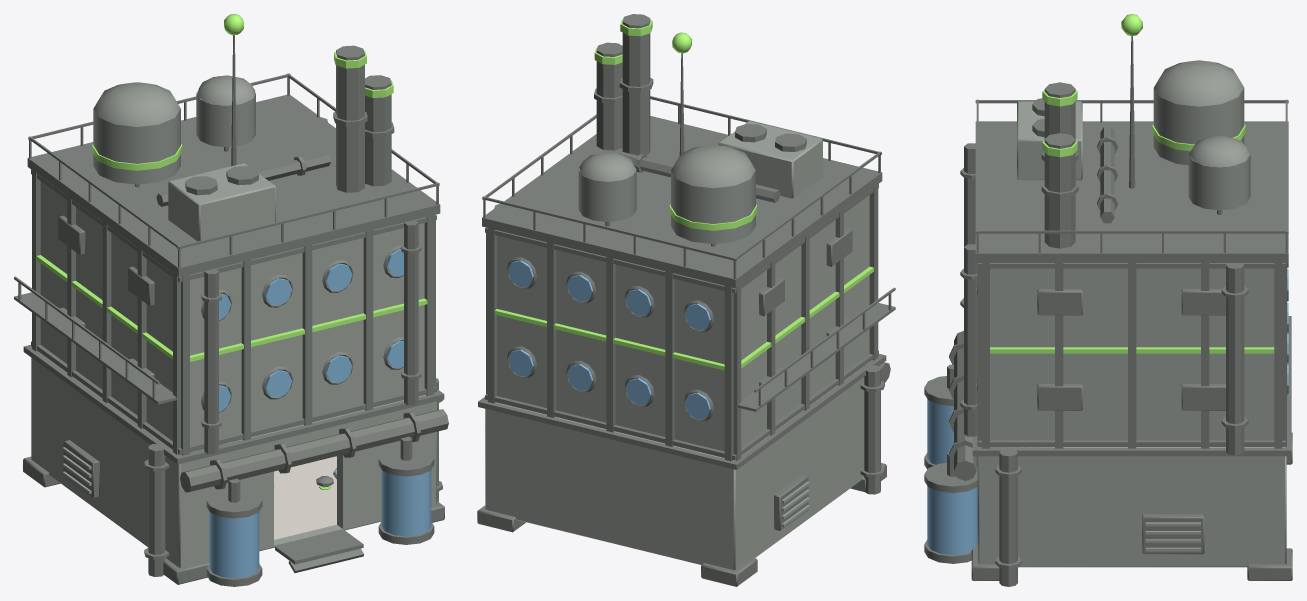
File: MiasmaBloque.fbx
3 renders of one model, left to right at view 1: azimuth 30°, elevation 25°; view 2: azimuth 150°, elevation 25°; view 3: azimuth 270°, elevation 25°, orthographic. The views are drawn at different scales.
Visible parts, largest first — view 1: MiasmaBloque_Medio_Cuerpo, MiasmaBloque_Tope_Metal, MiasmaBloque_Medio_Metal, MiasmaBloque_Base_Cuerpo, MiasmaBloque_Base_Metal, MiasmaBloque_Tope_Techo, MiasmaBloque_Base_Cristal, MiasmaBloque_Tope_Cuerpo, MiasmaBloque_Base_Forro, MiasmaBloque_Medio_Cristal, MiasmaBloque_Medio_Luz, MiasmaBloque_Tope_Luz; view 2: MiasmaBloque_Medio_Cuerpo, MiasmaBloque_Base_Cuerpo, MiasmaBloque_Tope_Metal, MiasmaBloque_Medio_Metal, MiasmaBloque_Tope_Techo, MiasmaBloque_Base_Metal, MiasmaBloque_Medio_Cristal, MiasmaBloque_Tope_Cuerpo, MiasmaBloque_Medio_Luz, MiasmaBloque_Tope_Luz; view 3: MiasmaBloque_Tope_Metal, MiasmaBloque_Medio_Cuerpo, MiasmaBloque_Base_Cuerpo, MiasmaBloque_Medio_Metal, MiasmaBloque_Base_Metal, MiasmaBloque_Tope_Techo, MiasmaBloque_Base_Cristal, MiasmaBloque_Tope_Cuerpo, MiasmaBloque_Medio_Luz, MiasmaBloque_Tope_Luz.
Boxes of the visible parts, bbox=[...] form: MiasmaBloque_Medio_Cuerpo: bbox=[40, 181, 424, 445]; MiasmaBloque_Tope_Metal: bbox=[27, 35, 440, 277]; MiasmaBloque_Medio_Metal: bbox=[14, 117, 436, 455]; MiasmaBloque_Base_Cuerpo: bbox=[31, 358, 436, 567]; MiasmaBloque_Base_Metal: bbox=[23, 345, 448, 586]; MiasmaBloque_Tope_Techo: bbox=[93, 75, 255, 184]; MiasmaBloque_Base_Cristal: bbox=[209, 468, 431, 578]; MiasmaBloque_Tope_Cuerpo: bbox=[168, 163, 275, 241]; MiasmaBloque_Base_Forro: bbox=[274, 456, 336, 539]; MiasmaBloque_Medio_Cristal: bbox=[219, 248, 403, 411]; MiasmaBloque_Medio_Luz: bbox=[36, 255, 427, 361]; MiasmaBloque_Tope_Luz: bbox=[92, 14, 393, 170]; MiasmaBloque_Medio_Cuerpo: bbox=[497, 195, 869, 451]; MiasmaBloque_Base_Cuerpo: bbox=[485, 361, 870, 569]; MiasmaBloque_Tope_Metal: bbox=[482, 14, 882, 288]; MiasmaBloque_Medio_Metal: bbox=[485, 184, 895, 461]; MiasmaBloque_Tope_Techo: bbox=[578, 144, 755, 244]; MiasmaBloque_Base_Metal: bbox=[477, 354, 890, 586]; MiasmaBloque_Medio_Cristal: bbox=[508, 260, 710, 419]; MiasmaBloque_Tope_Cuerpo: bbox=[718, 121, 822, 198]; MiasmaBloque_Medio_Luz: bbox=[494, 266, 873, 370]; MiasmaBloque_Tope_Luz: bbox=[594, 19, 757, 230]; MiasmaBloque_Tope_Metal: bbox=[975, 36, 1288, 262]; MiasmaBloque_Medio_Cuerpo: bbox=[990, 268, 1274, 440]; MiasmaBloque_Base_Cuerpo: bbox=[977, 447, 1286, 567]; MiasmaBloque_Medio_Metal: bbox=[960, 143, 1287, 455]; MiasmaBloque_Base_Metal: bbox=[924, 316, 1292, 586]; MiasmaBloque_Tope_Techo: bbox=[1153, 60, 1250, 210]; MiasmaBloque_Base_Cristal: bbox=[927, 399, 977, 555]; MiasmaBloque_Tope_Cuerpo: bbox=[1017, 101, 1082, 180]; MiasmaBloque_Medio_Luz: bbox=[990, 347, 1274, 353]; MiasmaBloque_Tope_Luz: bbox=[1042, 14, 1245, 157].
Bounding box in the file's own units: 3441 × 5350 × 3580.
